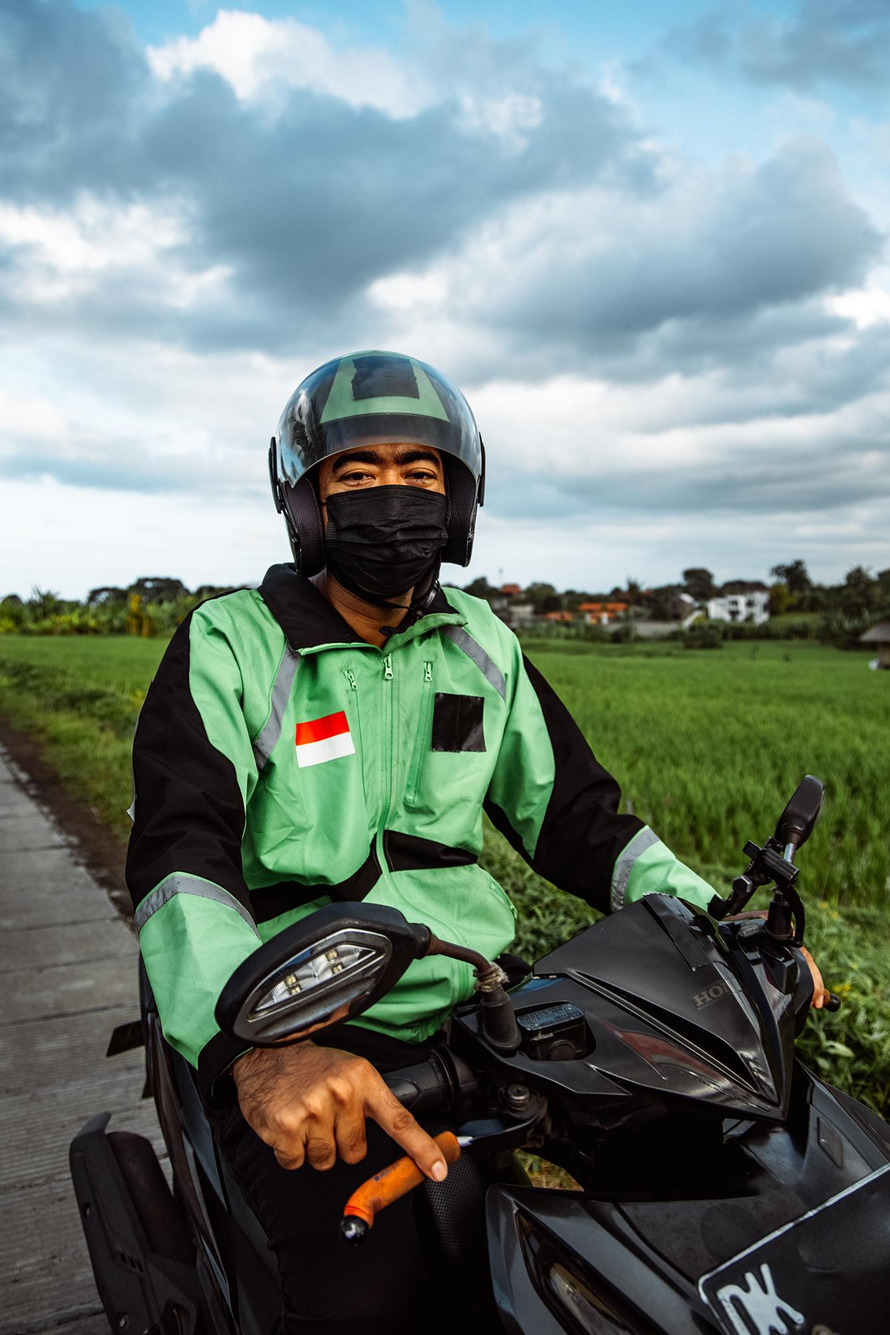helmet: (267, 347, 487, 638)
